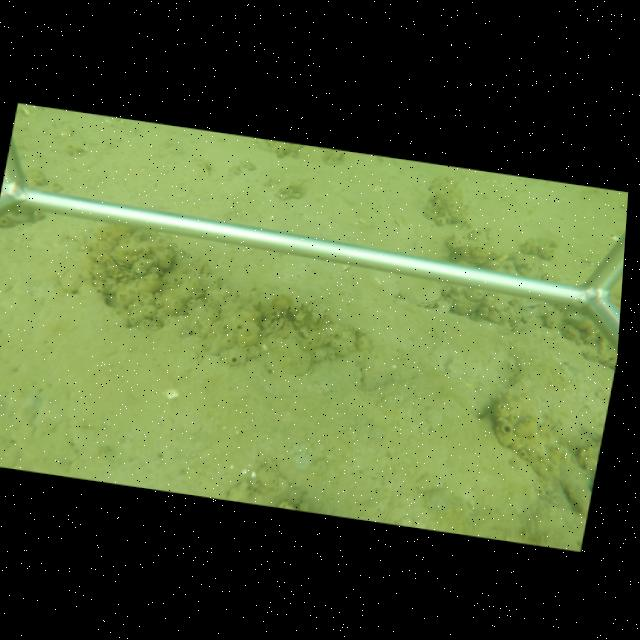Oyster-Closed: (93, 243, 137, 274)
